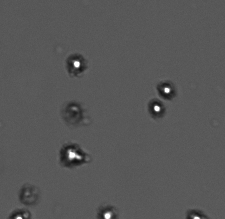Dead Cell: (64, 103, 83, 124), (19, 185, 38, 205)
Living Cell: (60, 144, 85, 166), (67, 55, 87, 75), (158, 81, 176, 98), (148, 100, 165, 117)
